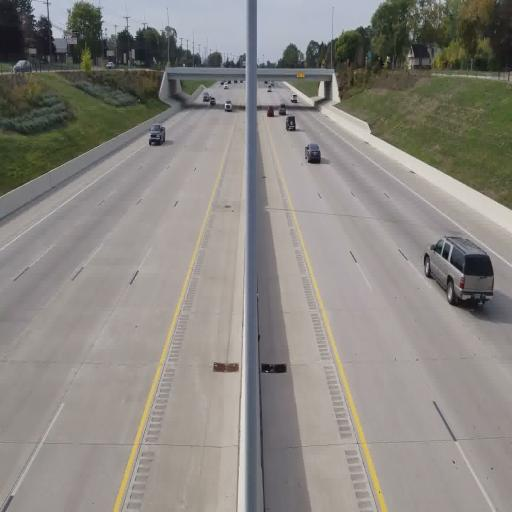Car: (423, 234, 495, 308), (148, 123, 166, 145), (305, 143, 321, 163), (225, 98, 232, 112)
Truck: (285, 115, 296, 131)
